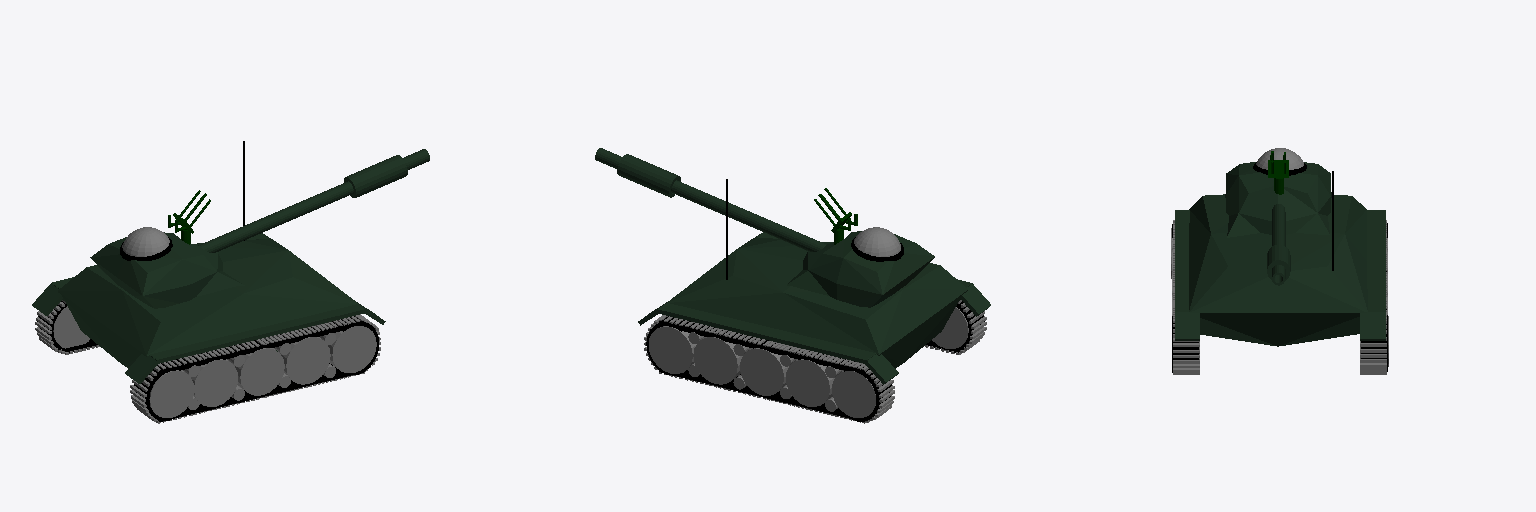
The model's file is RTS-tank.obj.
3 renders of one model, left to right at view 1: azimuth 30°, elevation 25°; view 2: azimuth 150°, elevation 25°; view 3: azimuth 270°, elevation 25°, orthographic.
Visible parts, largest first — view 1: polySurface11; view 2: polySurface11; view 3: polySurface11.
Boxes of the visible parts, box(x1,y1,x2,y2) form: polySurface11: box(32, 141, 429, 423); polySurface11: box(595, 148, 990, 423); polySurface11: box(1171, 148, 1388, 374).
Bounding box in the file's own units: 14.84 × 7.62 × 8.17.